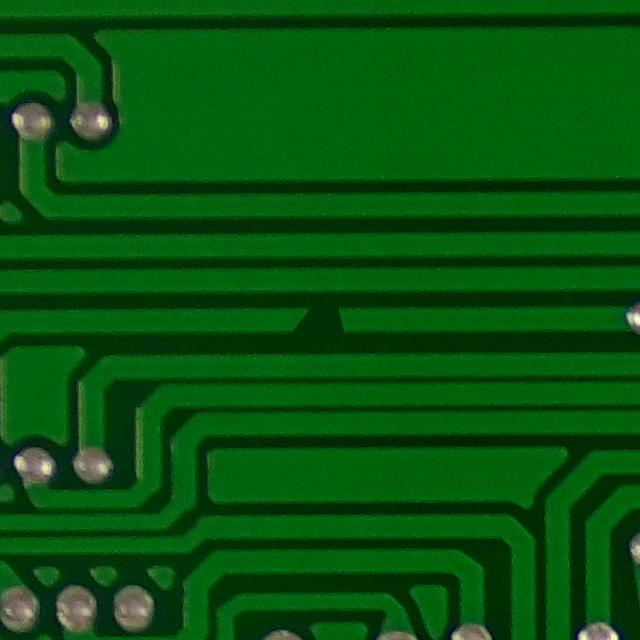open_circuit: (279, 300, 362, 340)
